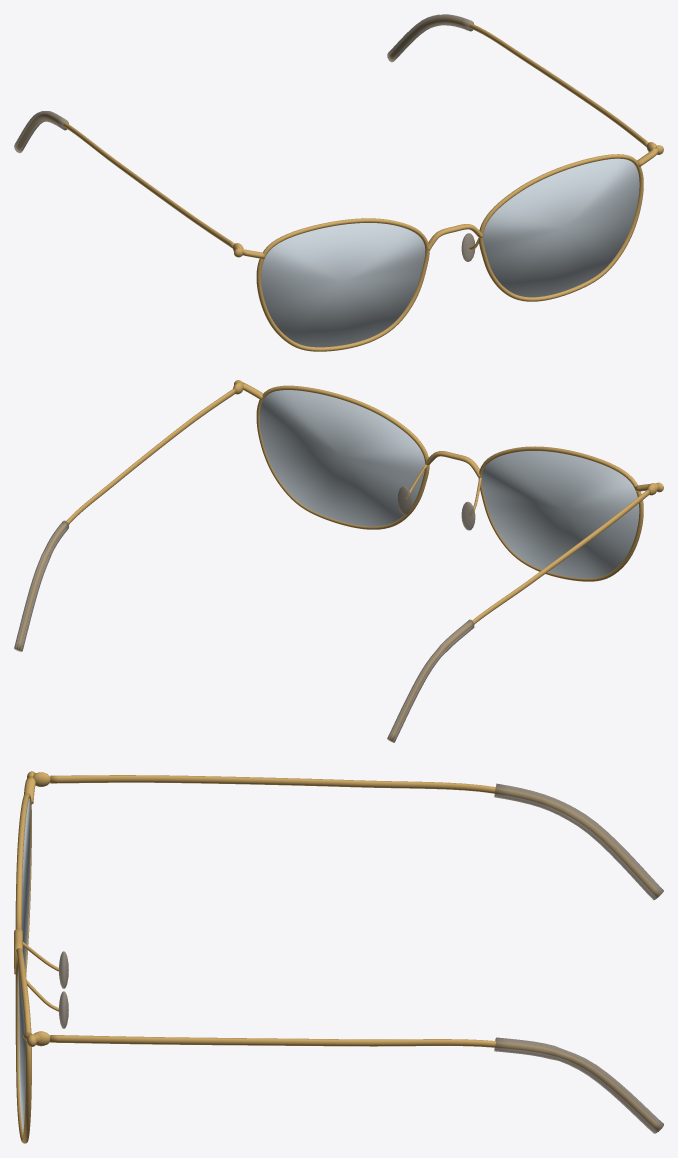
3 views of the same model, one above another, from view 1: azimuth 30°, elevation 25°; view 2: azimuth 150°, elevation 25°; view 3: azimuth 270°, elevation 25° (orthographic). The views are drawn at different scales.
Visible parts, largest first — view 1: Lens_image_left, Rim_image_left, Temple_tip_image_left, Hinge_image_left; view 2: Lens_image_left, Rim_image_left, Temple_tip_image_left, Hinge_image_left; view 3: Rim_image_left, Temple_tip_image_left, Lens_image_left, Hinge_image_left.
Part boxes in pixels (x1,y1,x2,y2): Lens_image_left: (261,158,639,347); Rim_image_left: (17,17,663,351); Temple_tip_image_left: (14,14,475,261); Hinge_image_left: (233,142,655,251); Lens_image_left: (259,390,639,578); Rim_image_left: (17,380,663,741); Temple_tip_image_left: (14,486,475,742); Hinge_image_left: (233,382,656,514); Rim_image_left: (15,771,660,1143); Temple_tip_image_left: (59,783,663,1133); Lens_image_left: (18,798,30,1132); Hinge_image_left: (14,772,59,1046).
Bounding box in the file's own units: 0.14 × 0.0406 × 0.1431.
